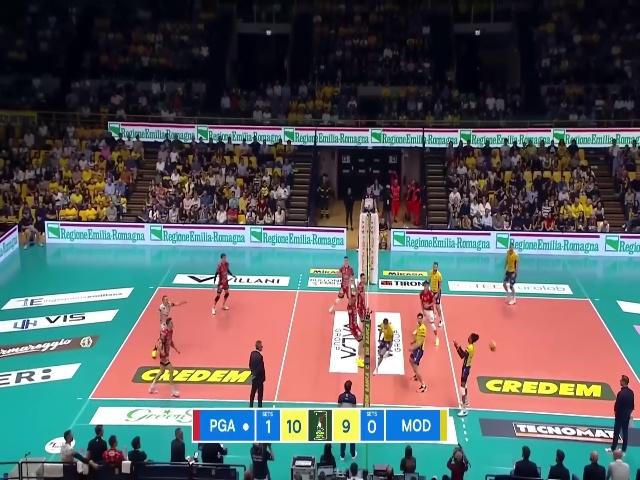volleyball court: (88, 285, 639, 416)
